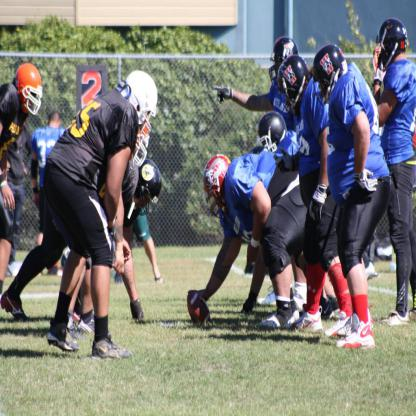face: (285, 86, 302, 113), (262, 137, 279, 163), (213, 184, 227, 212), (25, 86, 38, 115), (319, 71, 332, 100), (135, 186, 151, 209), (139, 101, 152, 129), (276, 58, 290, 84)
